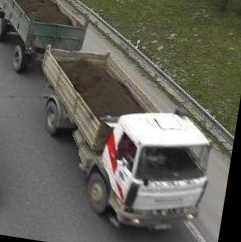car: (0, 91, 17, 217)
